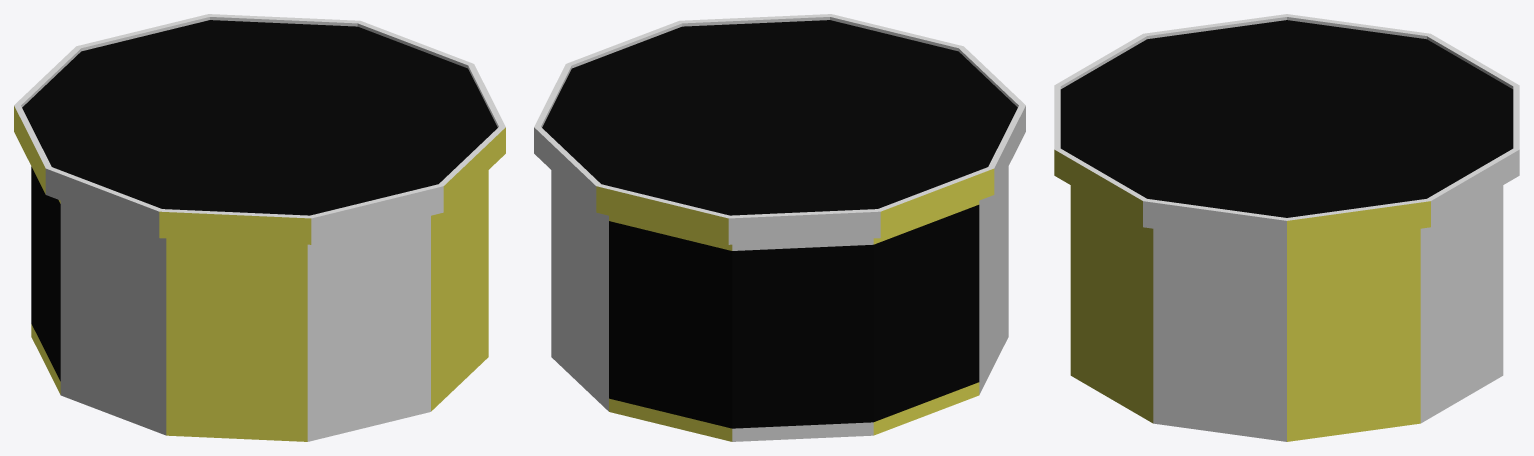
File: IceCupMedium.fbx
3 views of the same model, side by side, from view 1: azimuth 30°, elevation 25°; view 2: azimuth 150°, elevation 25°; view 3: azimuth 270°, elevation 25° (orthographic).
Visible parts, largest first — view 1: IceCupMedium; view 2: IceCupMedium; view 3: IceCupMedium.
Part boxes in pixels (x1,y1,x2,y2): IceCupMedium: [14, 14, 505, 441]; IceCupMedium: [534, 14, 1025, 441]; IceCupMedium: [1054, 14, 1519, 441].
Bounding box in the file's own units: 12.93 × 6.65 × 12.3.
